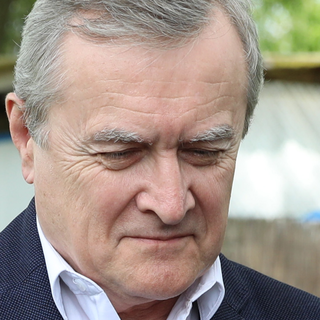eye: (181, 140, 226, 166)
